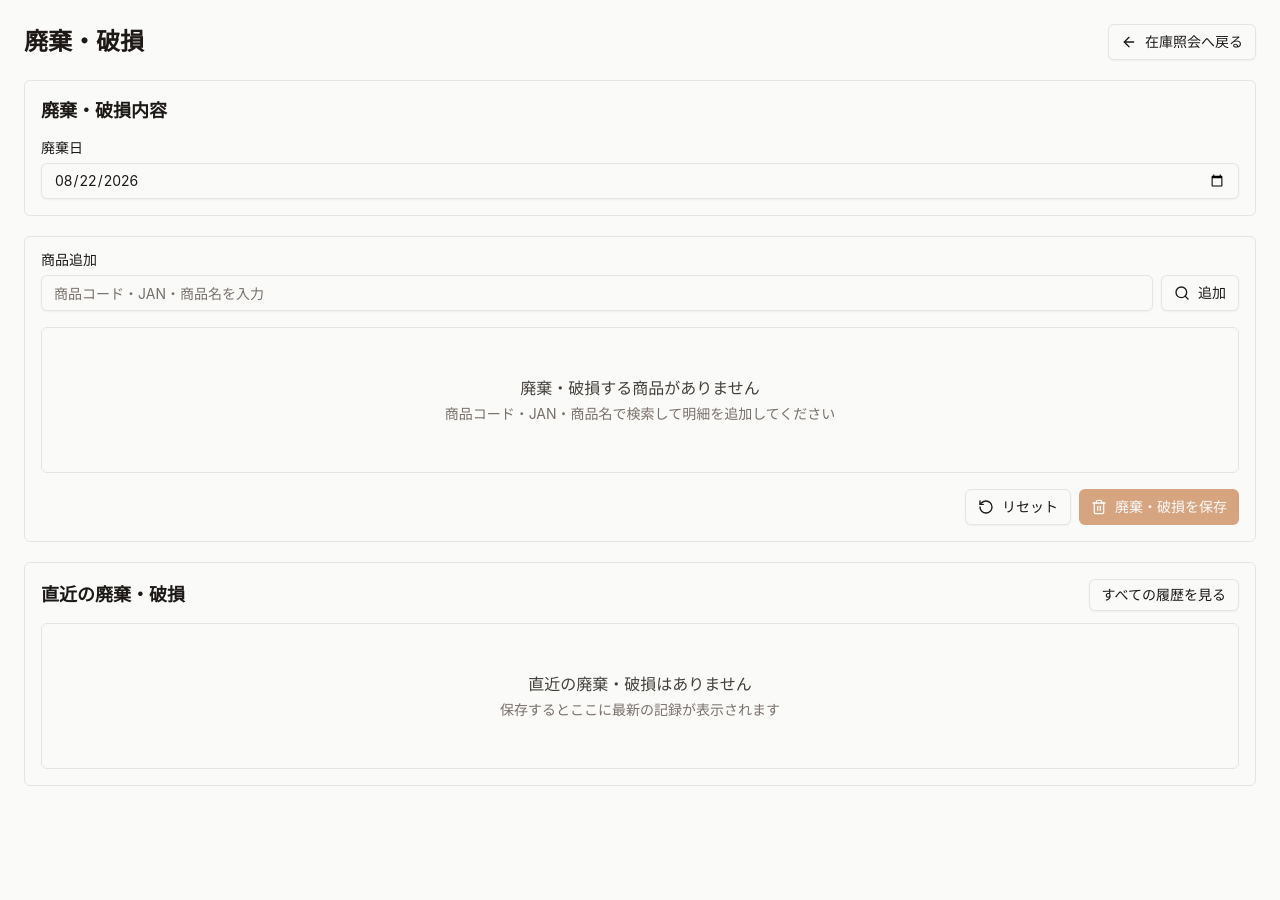
Test: DisposalPage (UI-05 / REQ-204) › REQ-204 shows product registration guidance for no match and unsaved rows
Type "DP-001" into the dropdown named "廃棄・破損商品検索" at (597, 293), box [41,275,1153,311]
Then press Enter
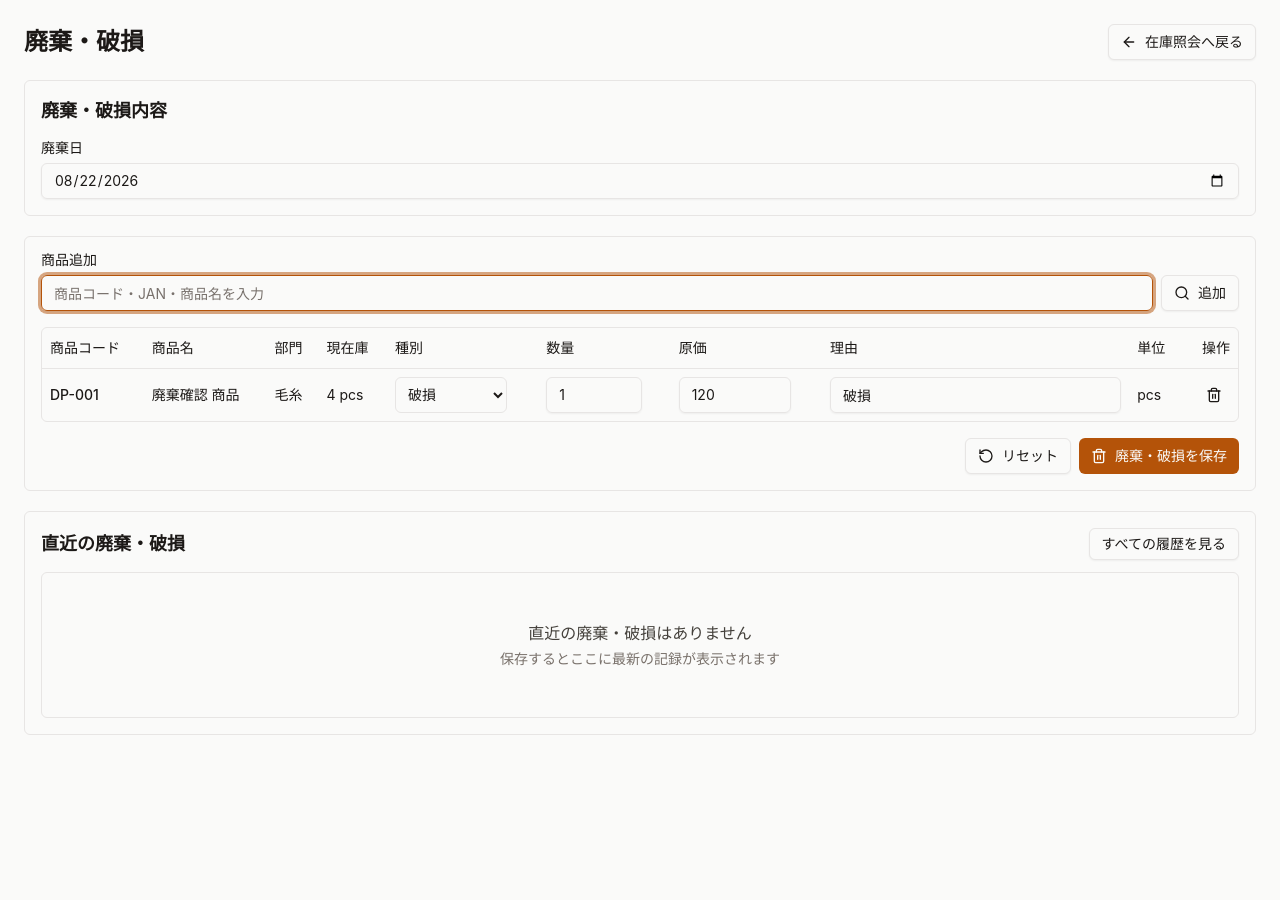
Result: the text "DP-001" is shown at [42,368,144,420]
Type "missing" into the dropdown named "廃棄・破損商品検索" at (597, 293), box [41,275,1153,311]
Then press Enter
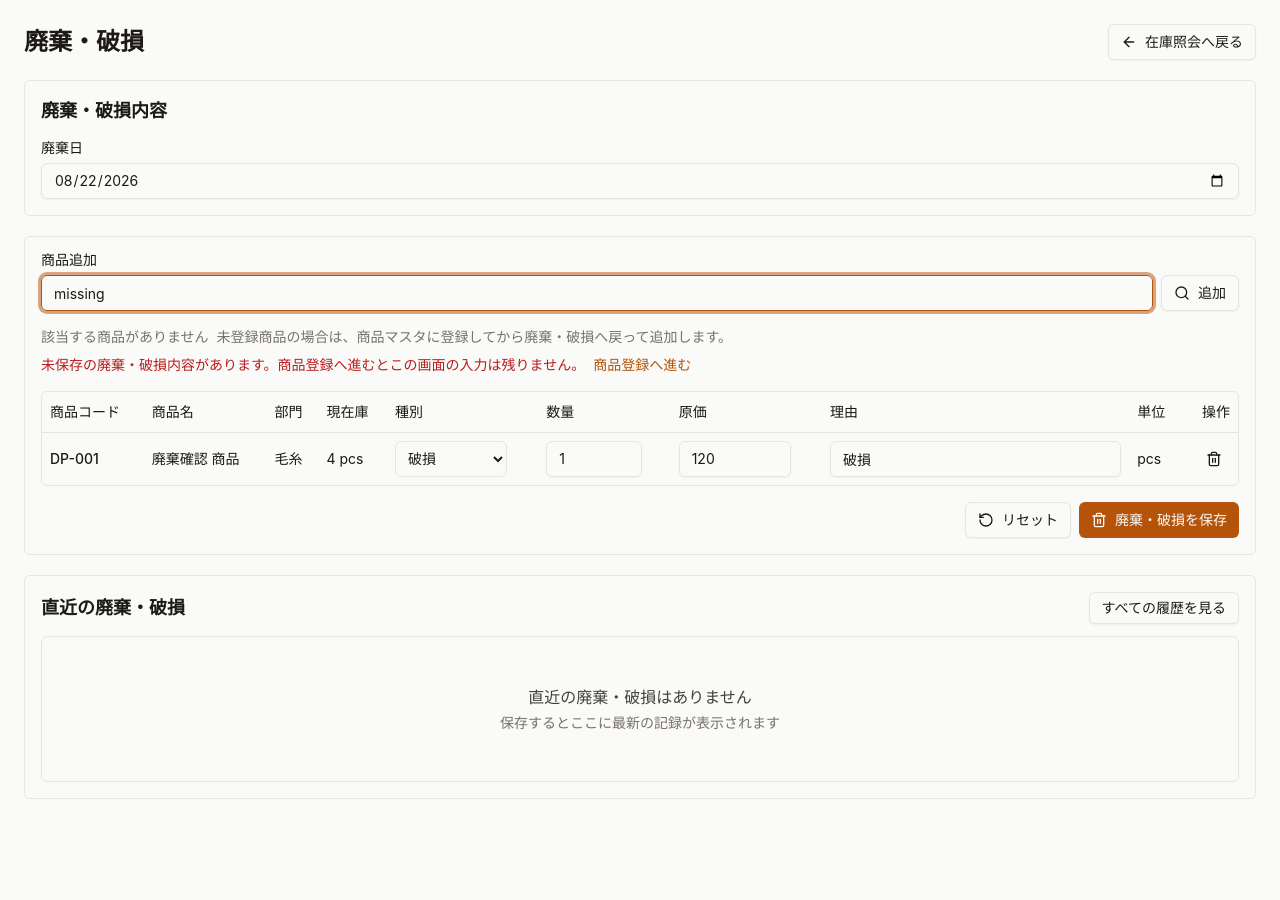
Result: the text "該当する商品がありません" is shown at [41,327,209,347]
Result: the text "未登録商品の場合は、商品マスタに登録してから廃棄・破損へ戻って追加します。" is shown at [217,327,732,347]
Result: the text "未保存の廃棄・破損内容があります。商品登録へ進むとこの画面の入力は残りません。" is shown at [41,355,585,375]
